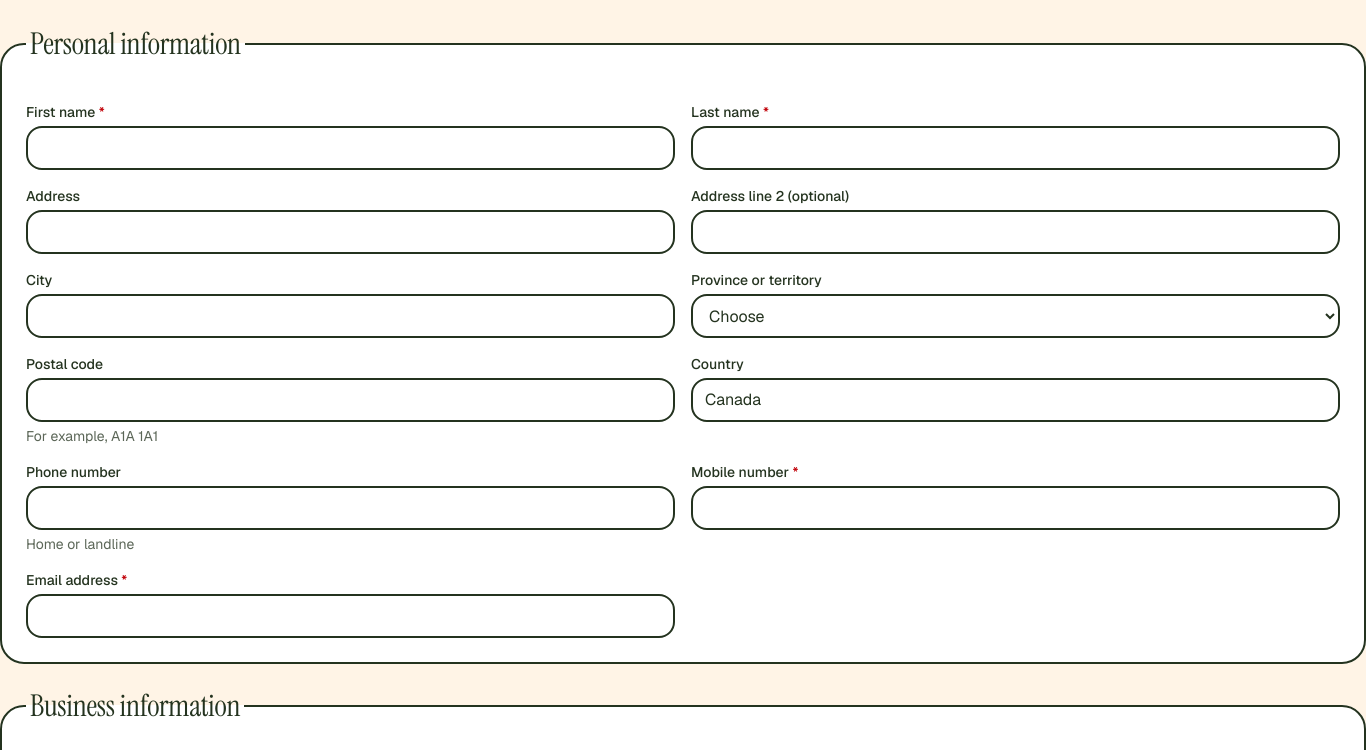
Test: sign up form › blocks a sign up without privacy consent and keeps what was typed
Type "Test" into the field labelled "First name *".
click(350, 148); type("Test")  # box [26,126,675,170]
Type "Person" into the field labelled "Last name *".
click(1016, 148); type("Person")  # box [691,126,1340,170]
Type "416 555 0100" into the field labelled "Mobile number *".
click(1016, 508); type("416 555 0100")  # box [691,486,1340,530]
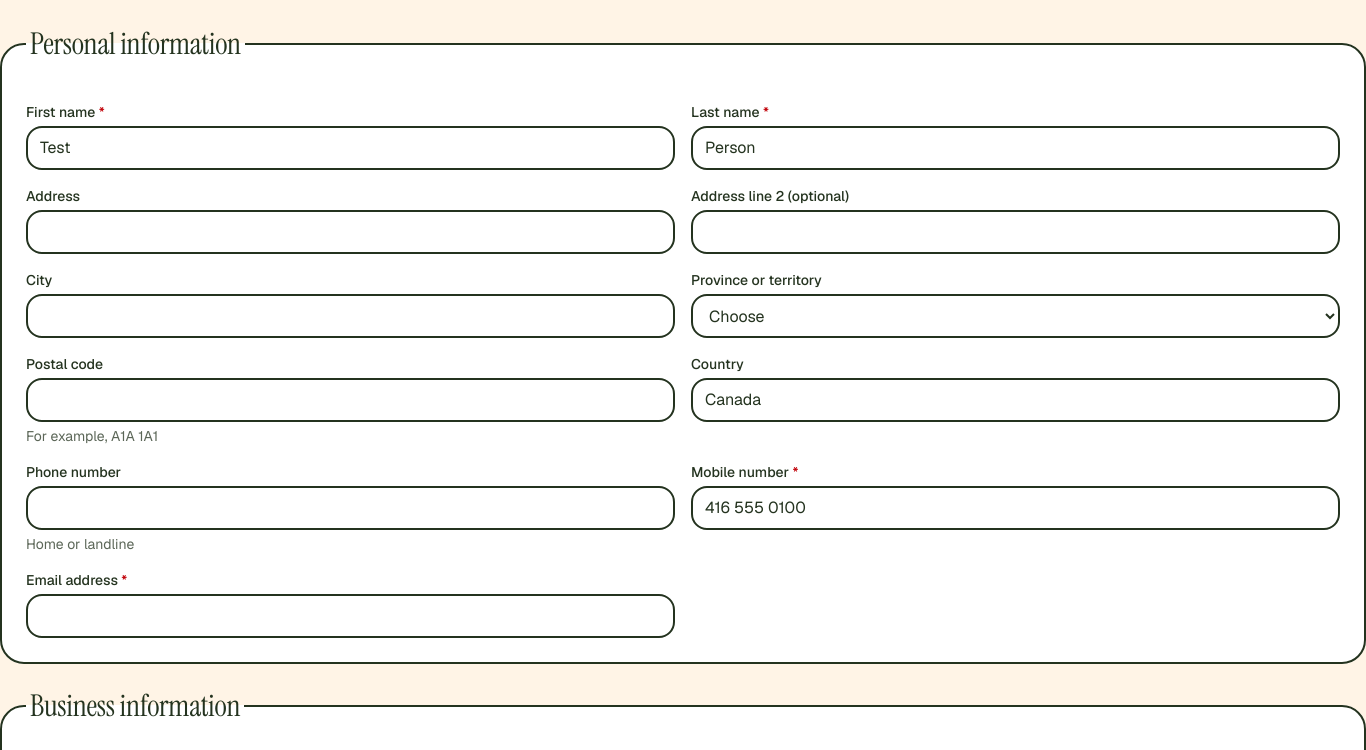
Type "test@example.com" into the field labelled "Email address *".
click(350, 616); type("test@example.com")  # box [26,594,675,638]
(page scrolled)
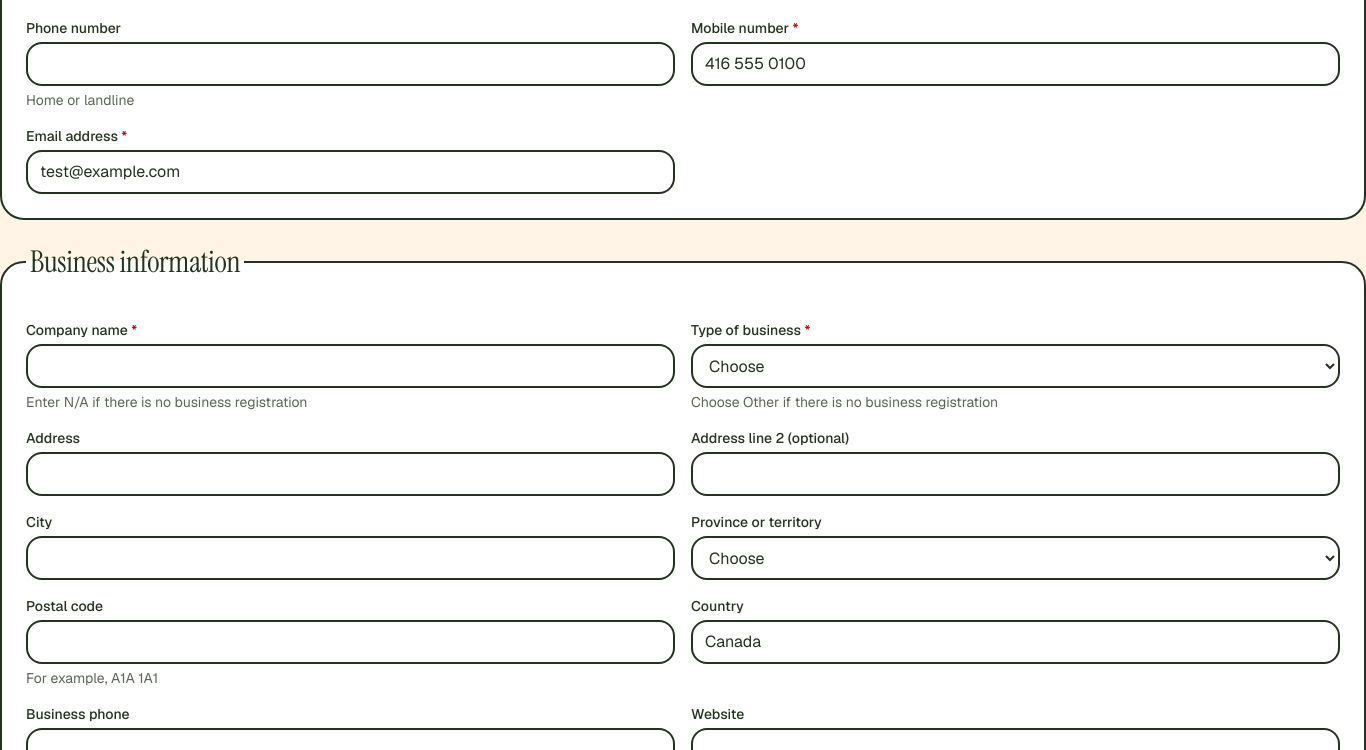
Type "N/A" into the field labelled "Company name *".
click(350, 366); type("N/A")  # box [26,344,675,388]
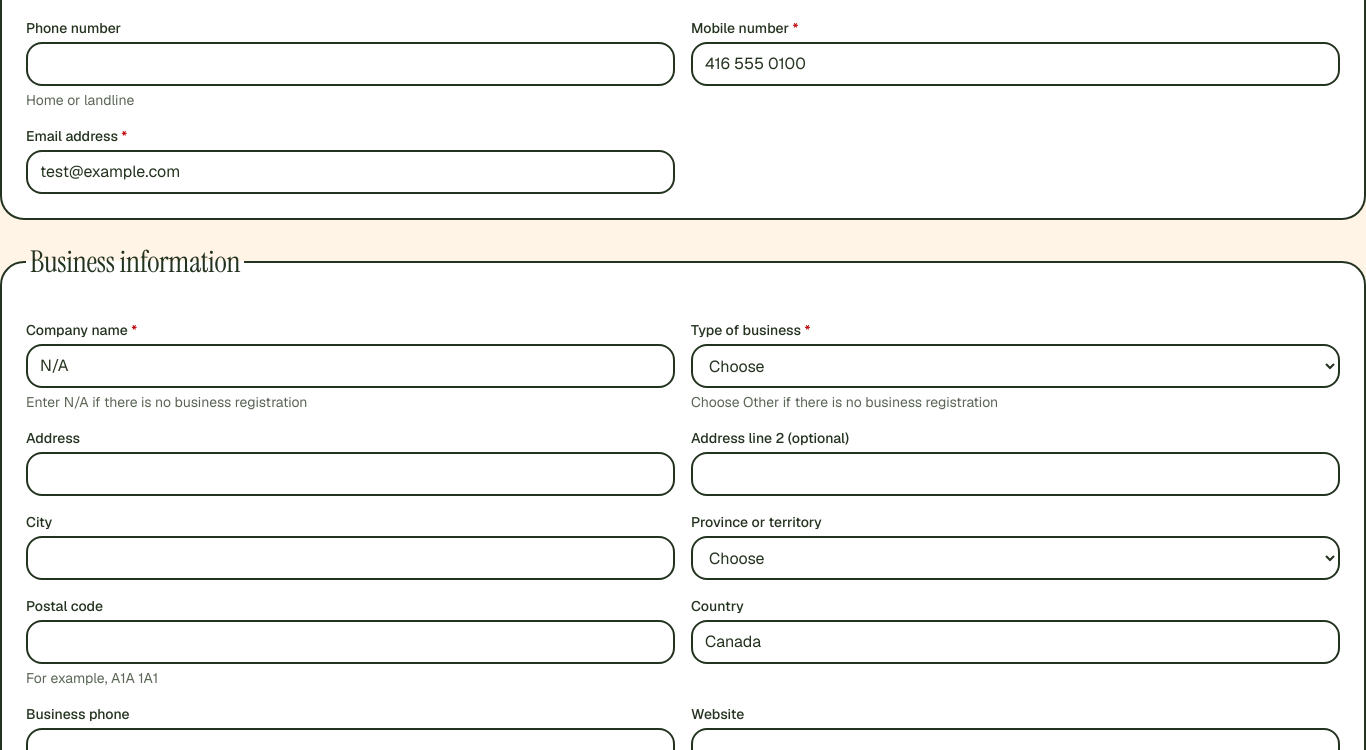
Select "Other" in the dropdown labelled "Type of business *" at x=1016, y=366, box [691,344,1340,388]
(page scrolled)
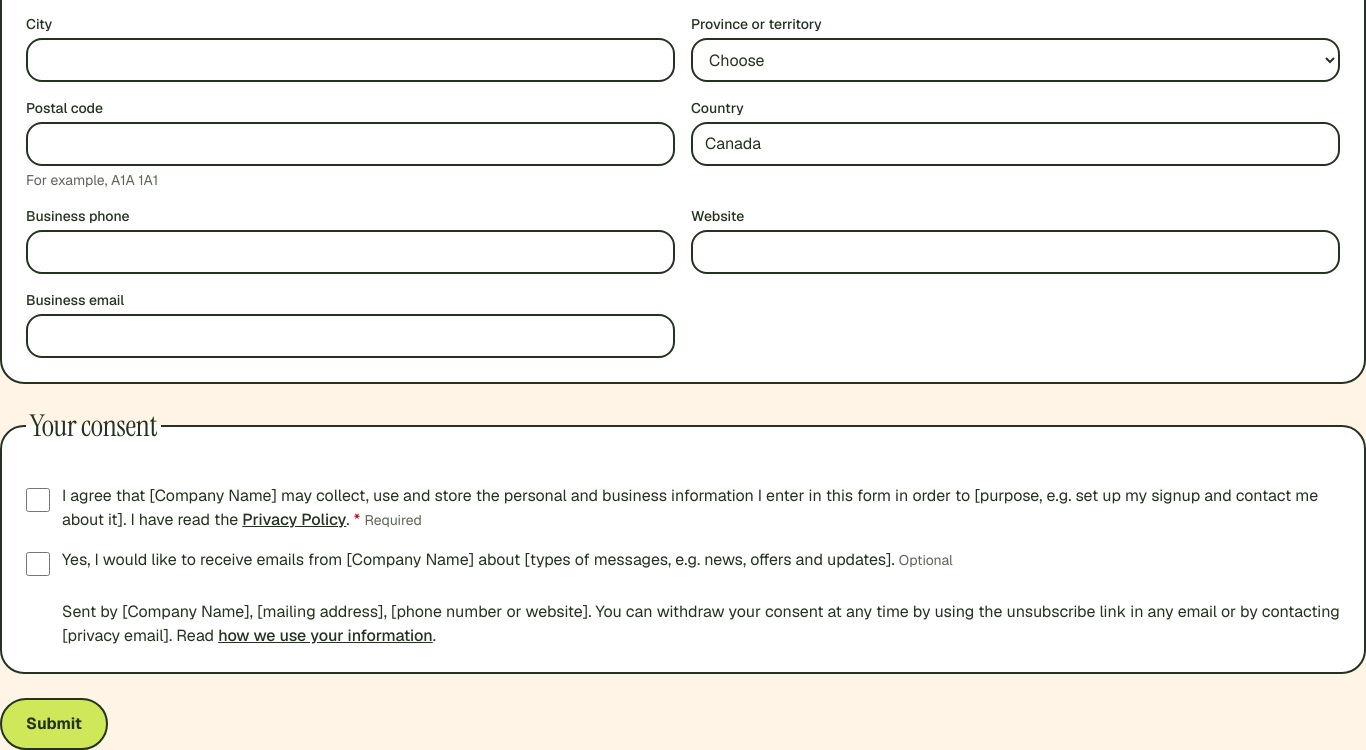
Click the checkbox labelled "Yes, I would like to receive emails".
click(38, 564)  # box [26,552,50,576]
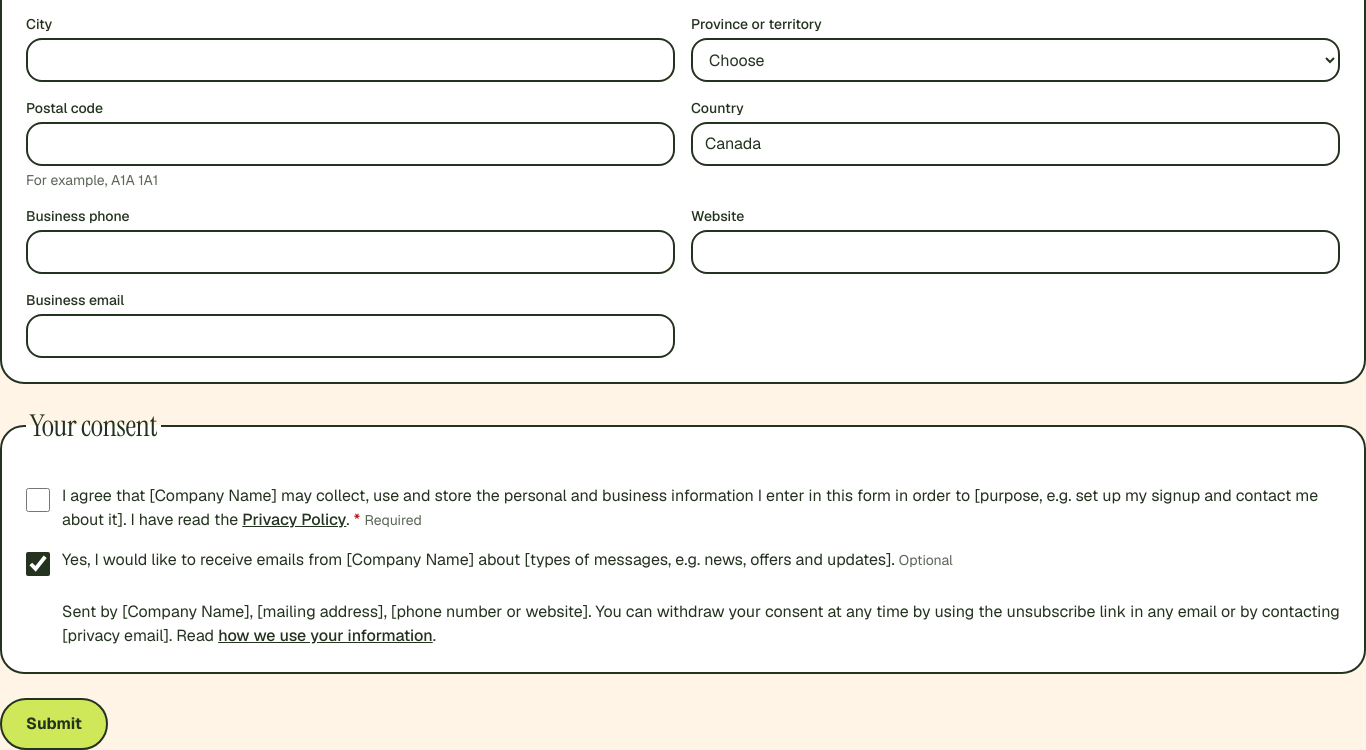
Click the button "Submit".
click(54, 724)  # box [0,698,108,749]
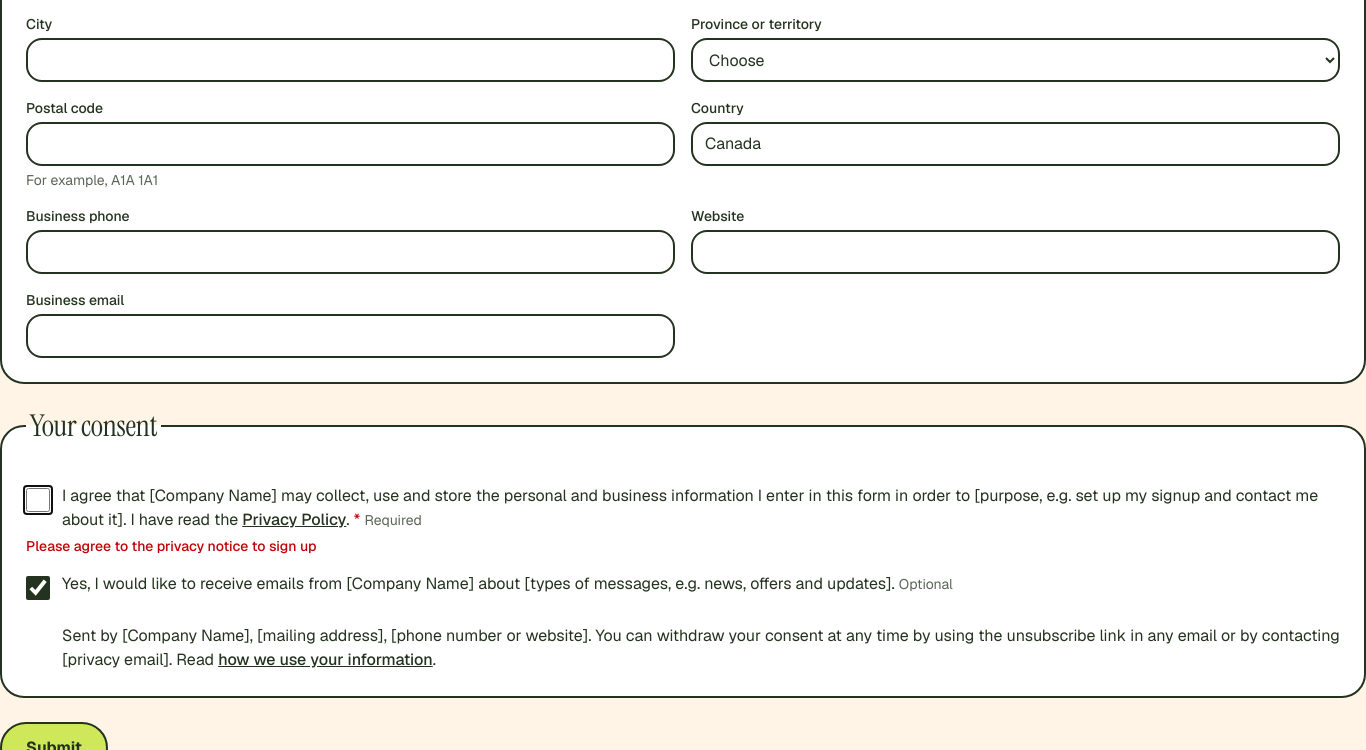
Check: the checkbox labelled "Yes, I would like to receive emails" is checked, box [26,576,50,600]
Check: the text "Please agree to the privacy notice to sign up" is shown, box [26,537,317,555]
